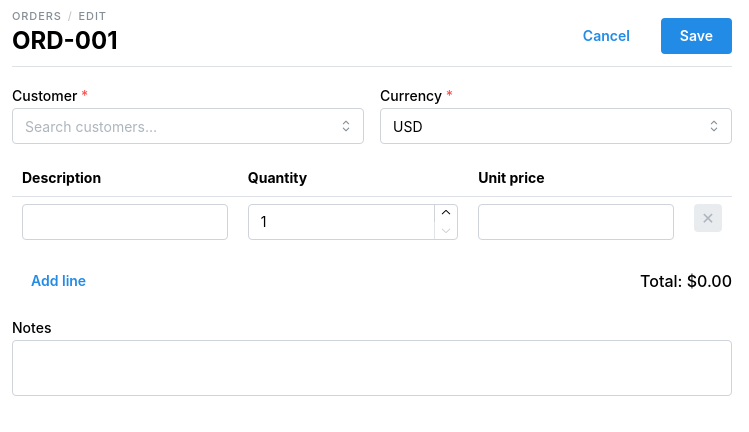
OrderForm › renders API validation errors on the matching line-item field
Click the field labelled "Customer *".
click(188, 126)  # box [12, 108, 364, 144]
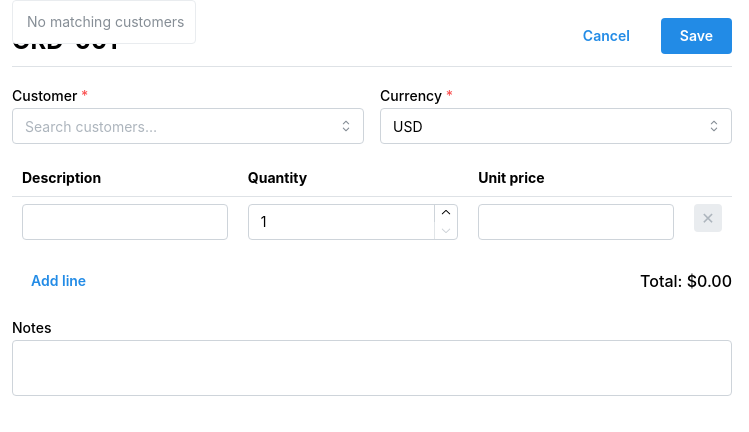
Focus the field labelled "Customer *" at (188, 126), box [12, 108, 364, 144]
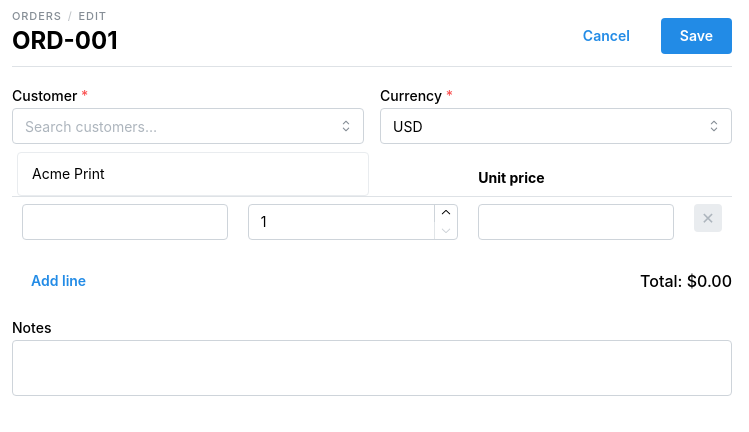
Click the option "Acme Print".
click(68, 174)  # box [32, 165, 105, 182]
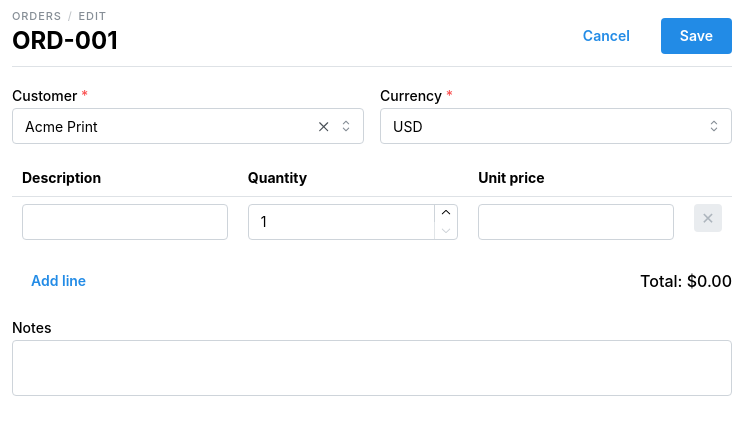
Type "Business cards" into the 3rd field.
click(125, 222); type("Business cards")  # box [22, 204, 228, 240]
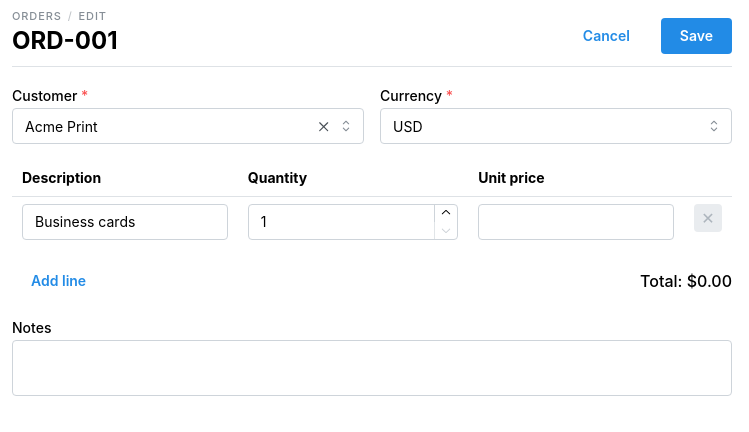
Type "10.00" into the 5th field.
click(576, 222); type("10.00")  # box [478, 204, 674, 240]
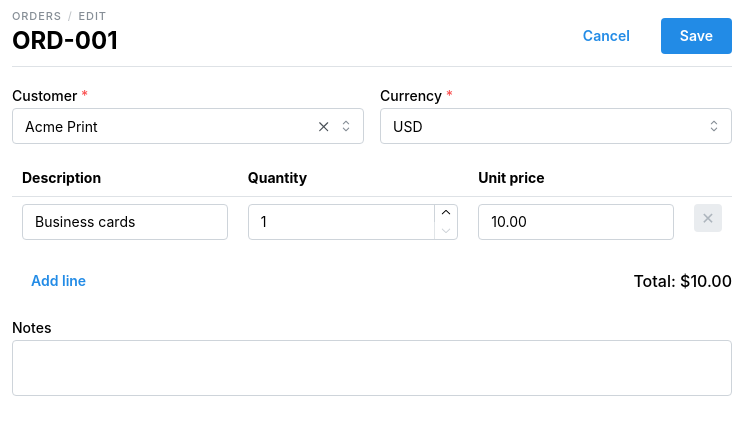
Click the button "Save".
click(696, 36)  # box [661, 18, 732, 54]
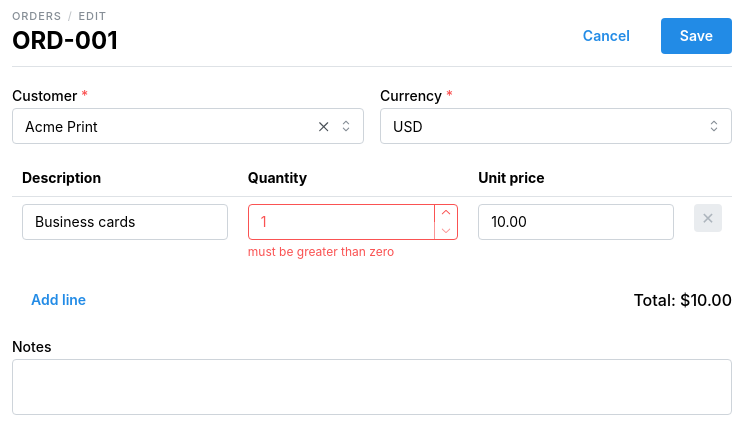
Expected: the text "must be greater than zero" is shown, [248, 244, 394, 259]
